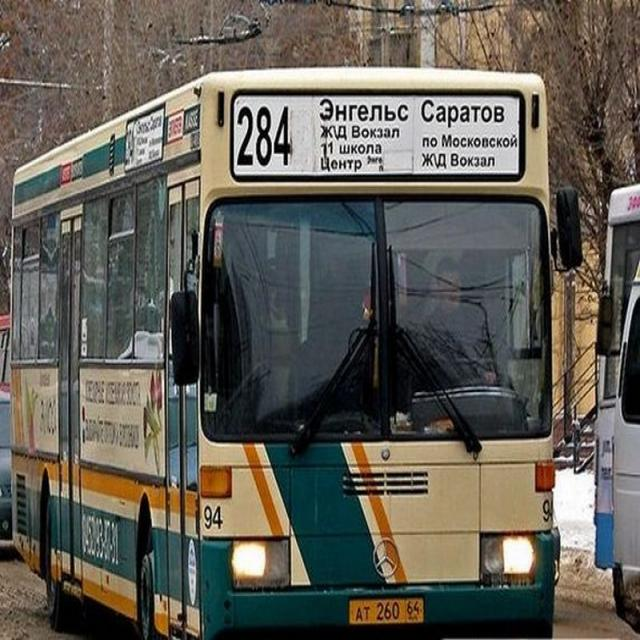number-of-bus: (233, 99, 300, 175)
